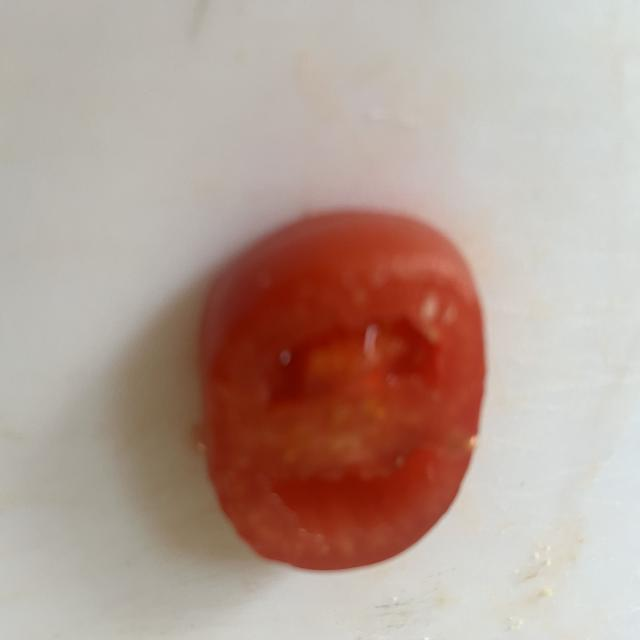sliced_tomato: (202, 213, 484, 569)
